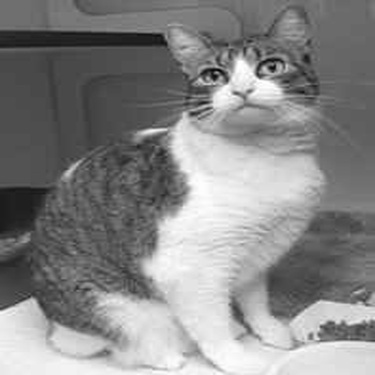cat: (8, 4, 329, 372)
